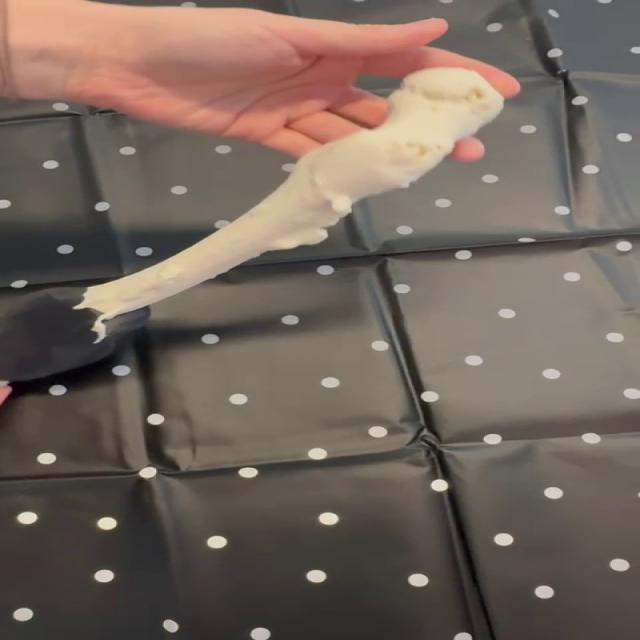bones: (0, 68, 503, 384)
